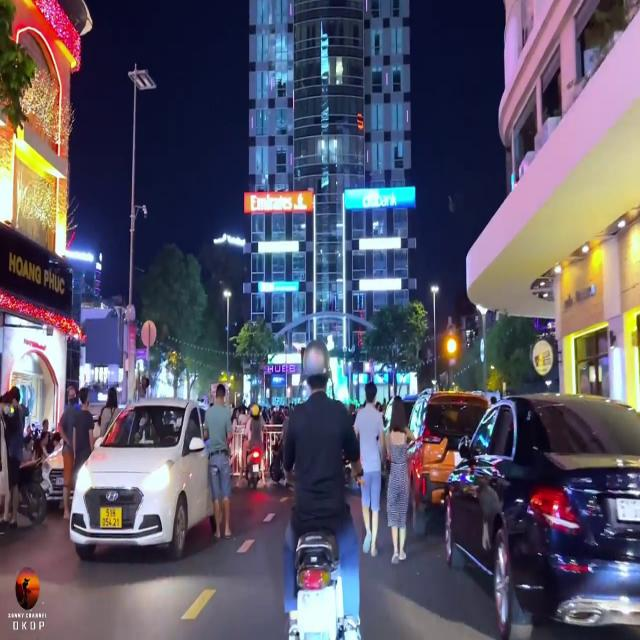bien_vang: (96, 504, 126, 536)
